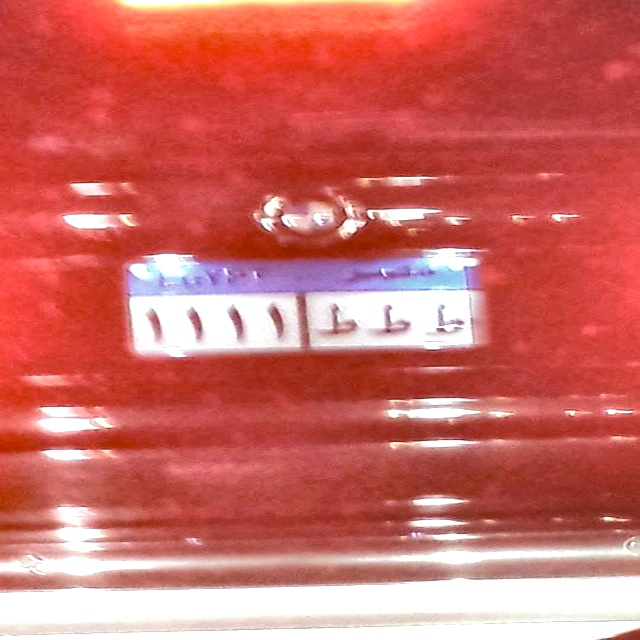License Plate: (123, 256, 480, 361)
